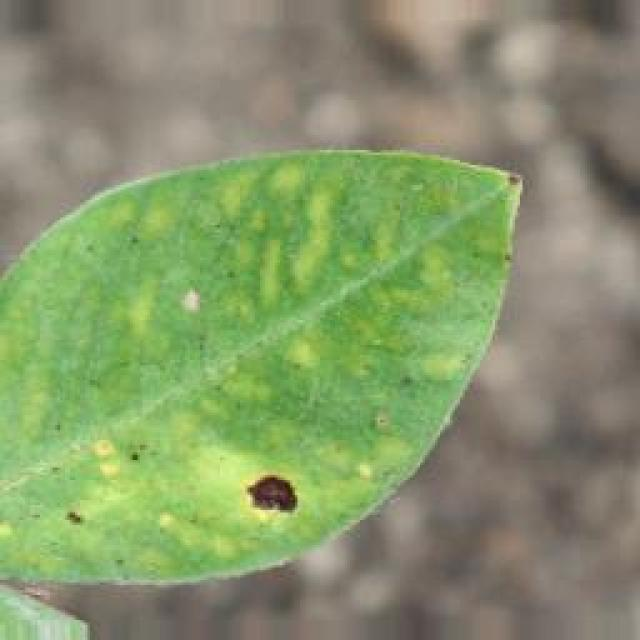Yellowish: (75, 417, 321, 553)
